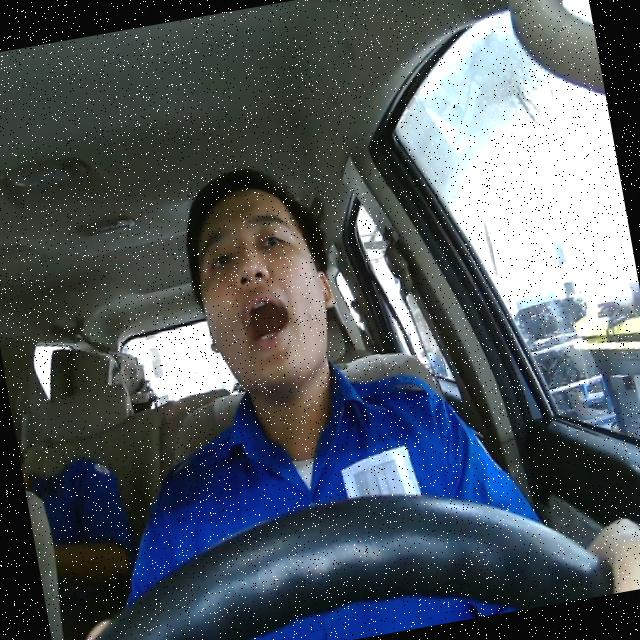yarning: (182, 172, 346, 400)
